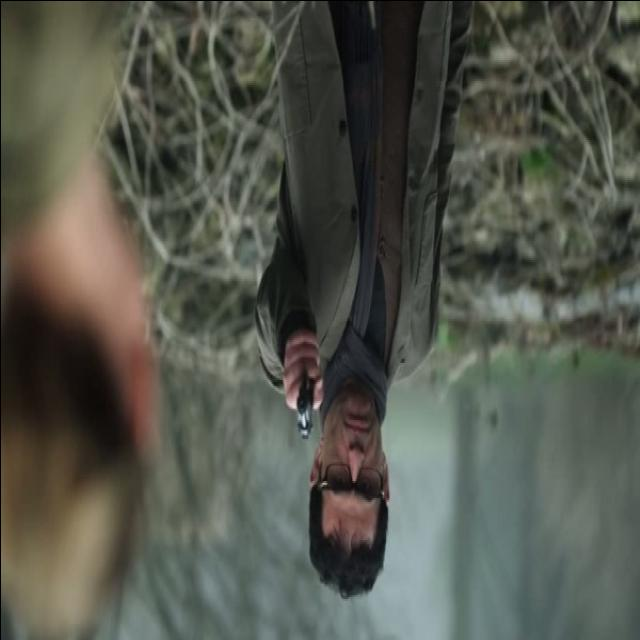weapons: (284, 330, 322, 450)
